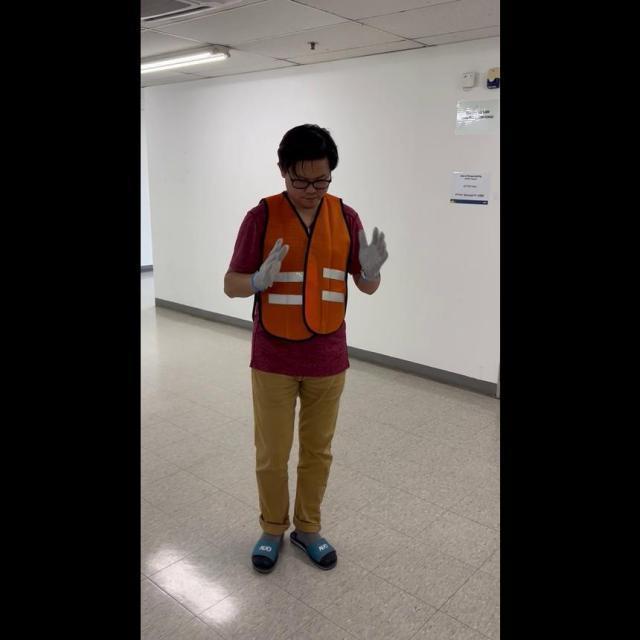gloved_hand: (249, 233, 288, 292), (354, 220, 388, 282)
